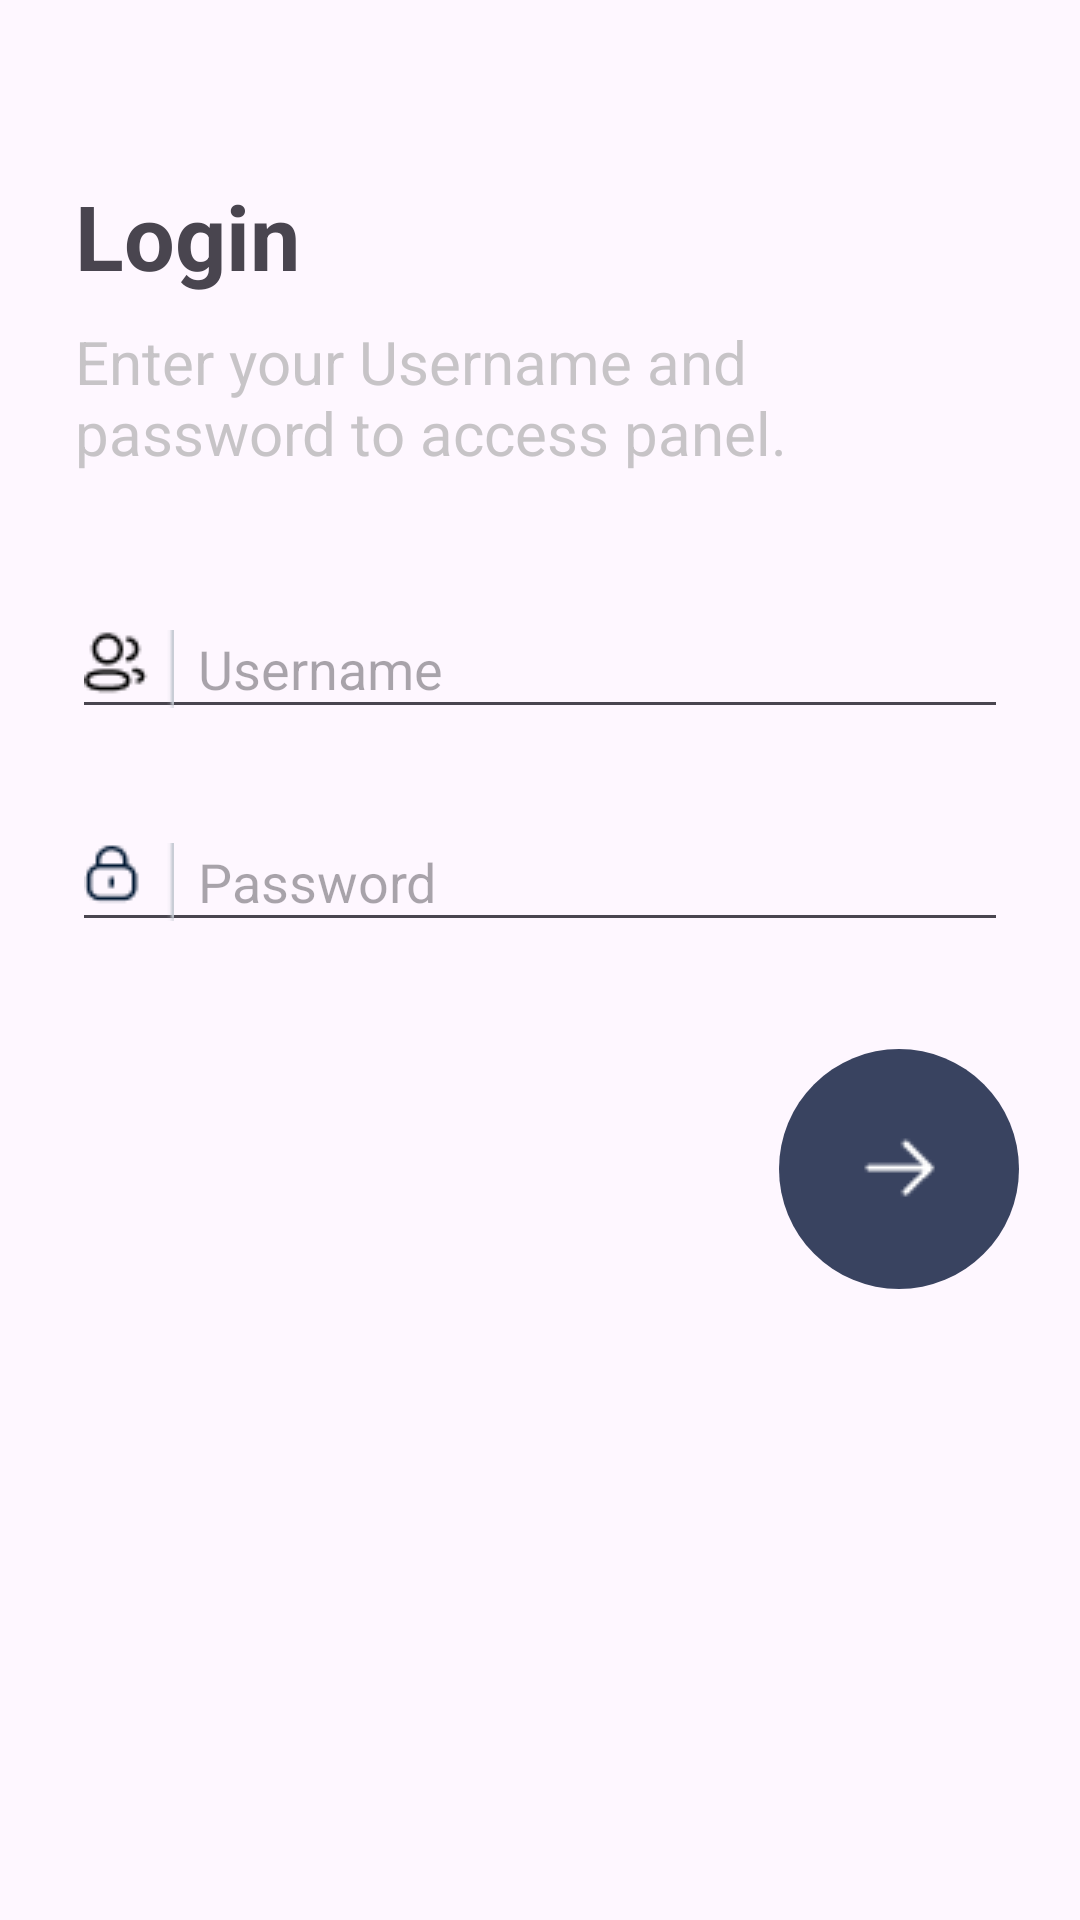

Where to tap for icons on this 1080w x 1920h app screen, as (x,y):
arrowright: (899,1169)
